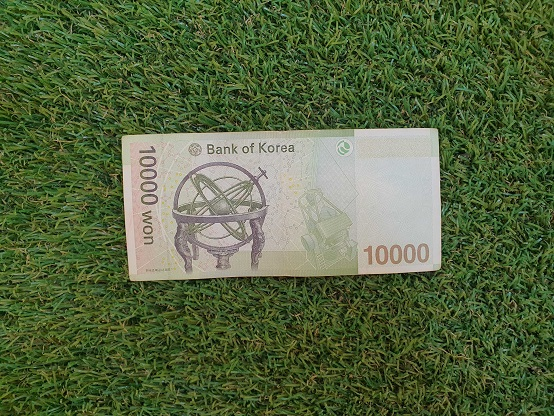10000won: (120, 127, 443, 284)
